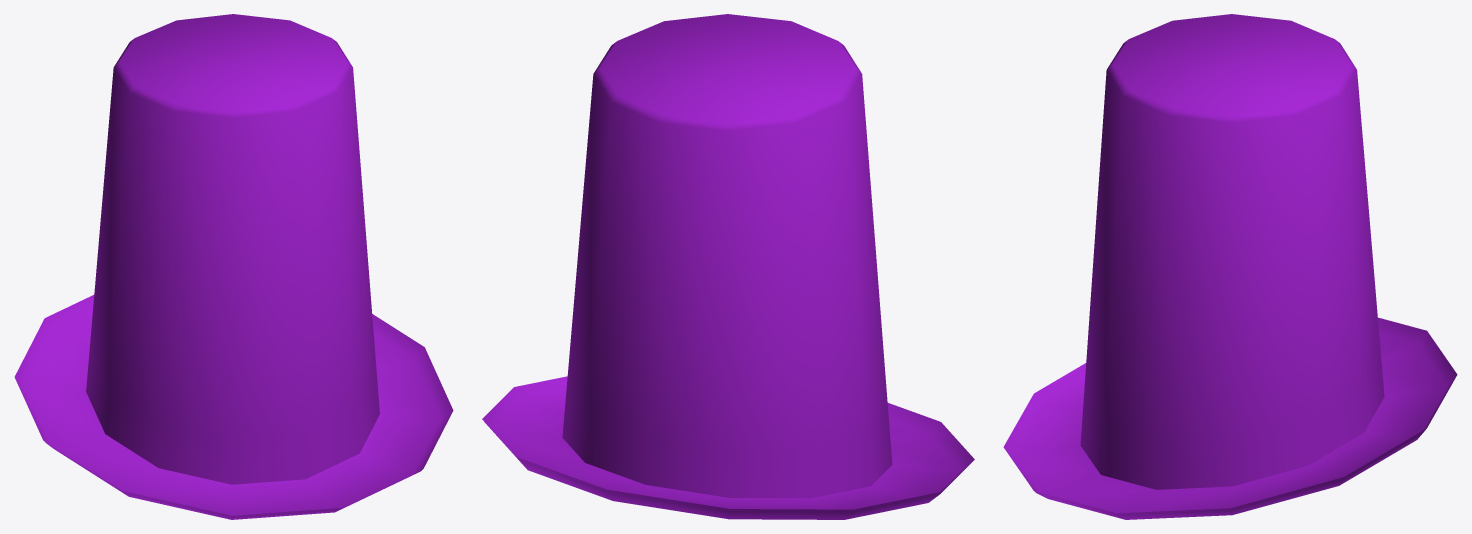
File: shop cont hat 3 lod0.FBX
The picture shows the model from 3 angles, left to right: view 1: azimuth 30°, elevation 25°; view 2: azimuth 150°, elevation 25°; view 3: azimuth 270°, elevation 25°; orthographic projection. The views are drawn at different scales.
Visible parts, largest first — view 1: Cylinder287; view 2: Cylinder287; view 3: Cylinder287.
Part boxes in pixels (<box>): Cylinder287: <box>14,14,453,519</box>; Cylinder287: <box>482,14,974,519</box>; Cylinder287: <box>1003,14,1457,519</box>.
Size of the model in its own units: 0.4082 by 0.3844 by 0.402.
